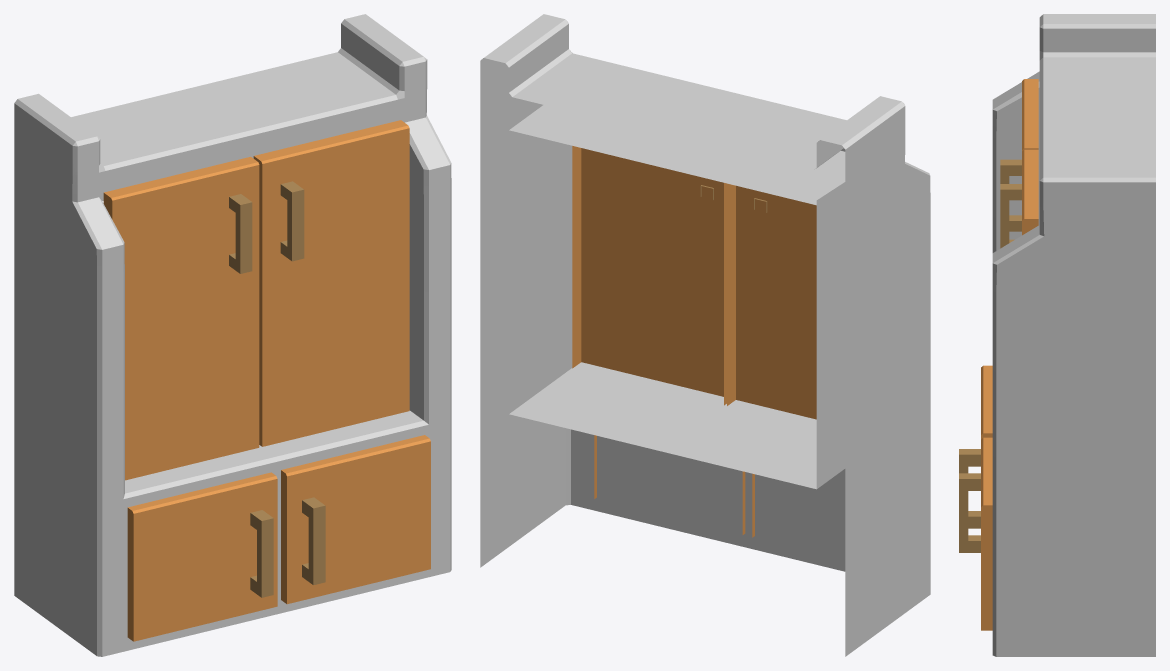
The model's file is propsMaison_armoire.fbx.
The picture shows the model from 3 angles, left to right: view 1: azimuth 30°, elevation 25°; view 2: azimuth 150°, elevation 25°; view 3: azimuth 270°, elevation 25°; orthographic projection. The views are drawn at different scales.
Visible parts, largest first — view 1: scale; view 2: scale; view 3: scale.
Boxes of the visible parts, bbox=[...] form: scale: bbox=[14, 14, 451, 656]; scale: bbox=[480, 14, 930, 656]; scale: bbox=[959, 14, 1155, 656].
Bounding box in the file's own units: 483 × 646 × 241.
